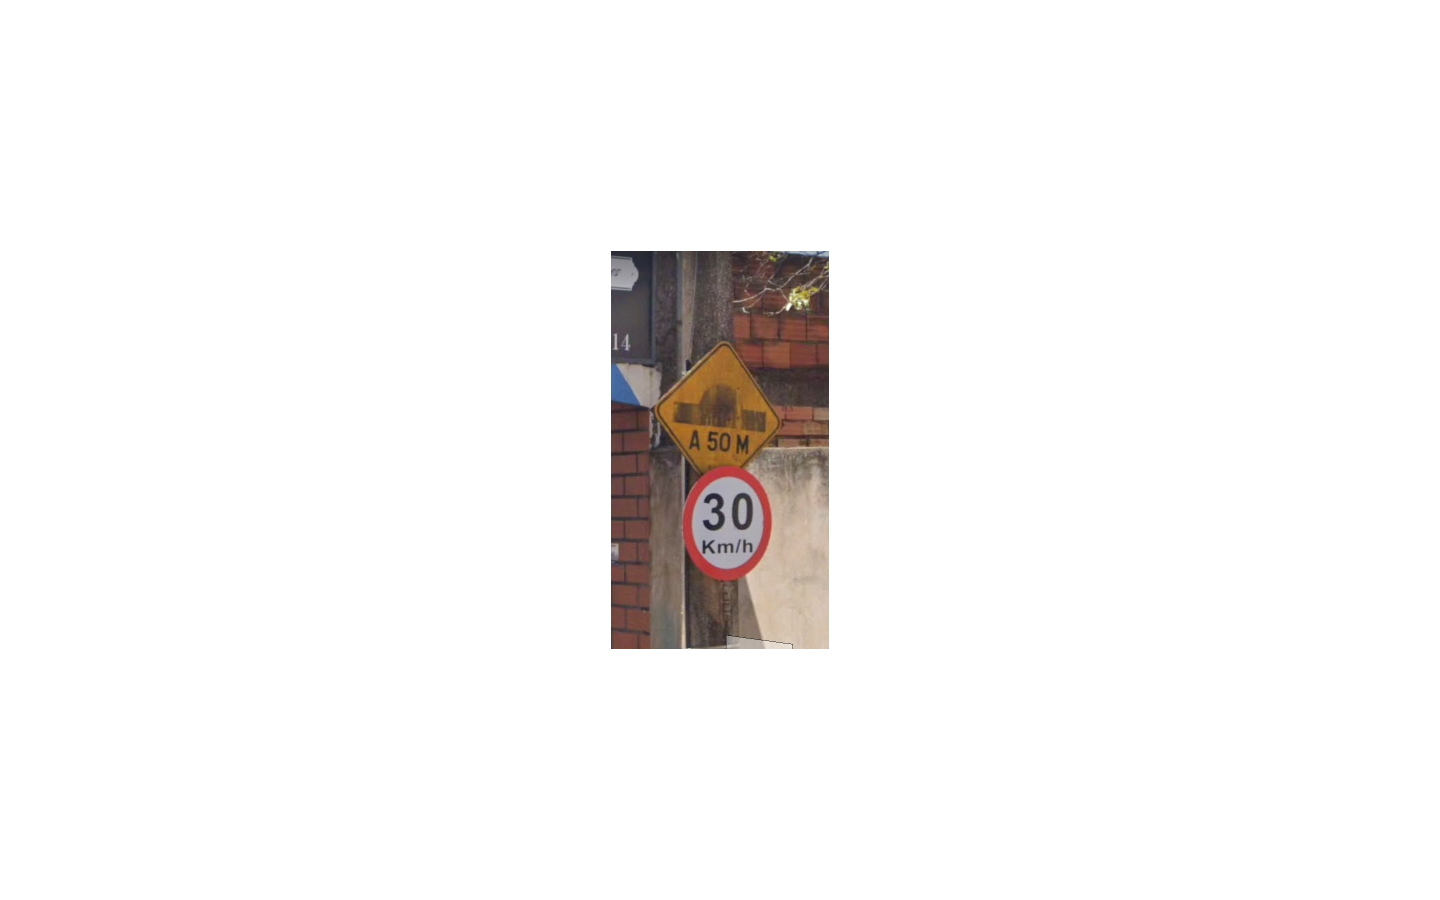l50m: (653, 340, 783, 476)
